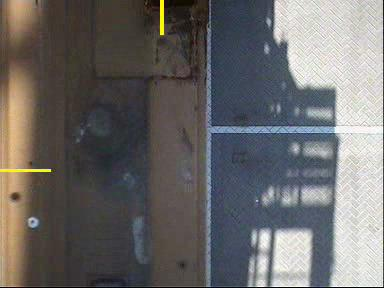groundmarker_2: (204, 141, 264, 236)
